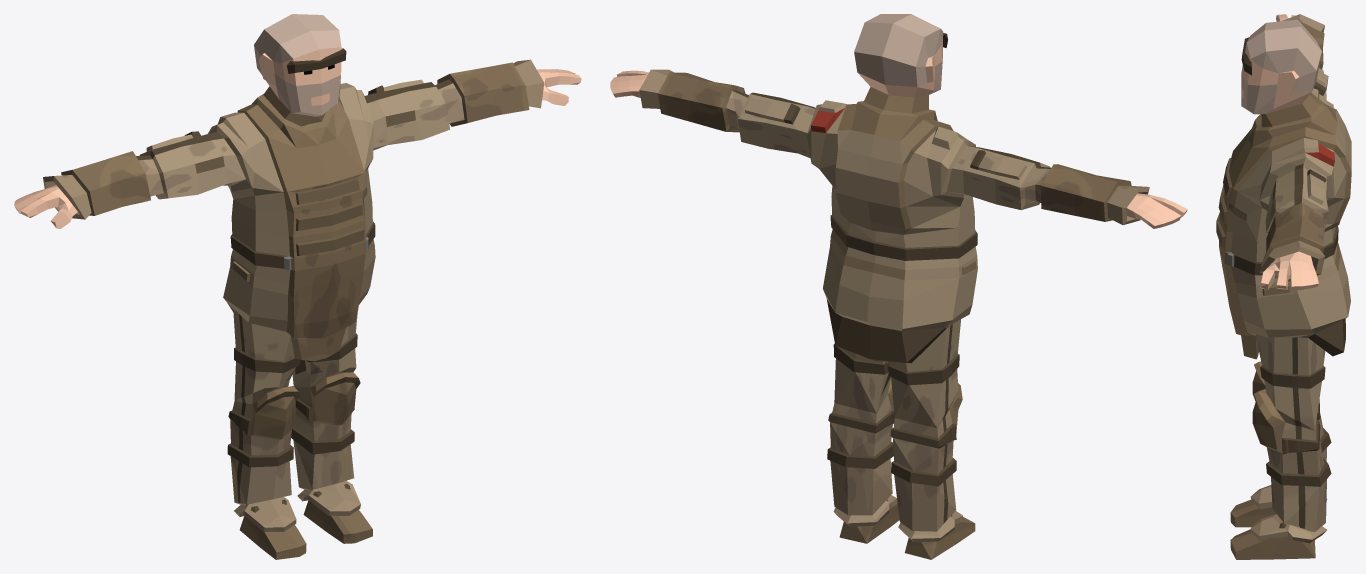
File: SM_Chr_Bombsuit_Male_01.fbx
3 views of the same model, side by side, from view 1: azimuth 30°, elevation 25°; view 2: azimuth 150°, elevation 25°; view 3: azimuth 270°, elevation 25° (orthographic).
Visible parts, largest first — view 1: SM_Chr_Bombsuit_Male_01; view 2: SM_Chr_Bombsuit_Male_01; view 3: SM_Chr_Bombsuit_Male_01.
Boxes of the visible parts, x1,y1,x2,y2 form: SM_Chr_Bombsuit_Male_01: (14,14,581,559); SM_Chr_Bombsuit_Male_01: (610,14,1187,559); SM_Chr_Bombsuit_Male_01: (1216,14,1351,559).
Bounding box in the file's own units: 205 × 179 × 43.19.
